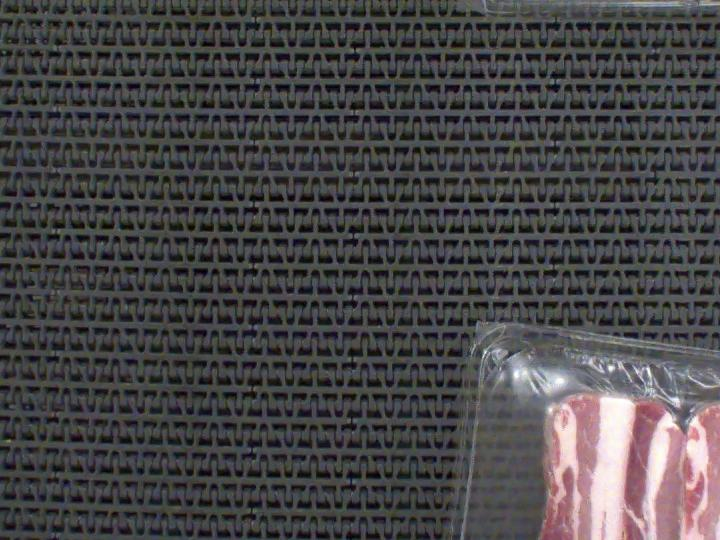unsealed: (485, 338, 720, 540)
